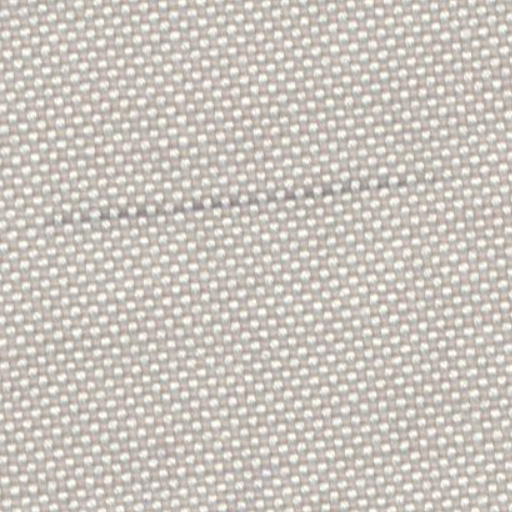WuZi: (56, 166, 422, 226)
